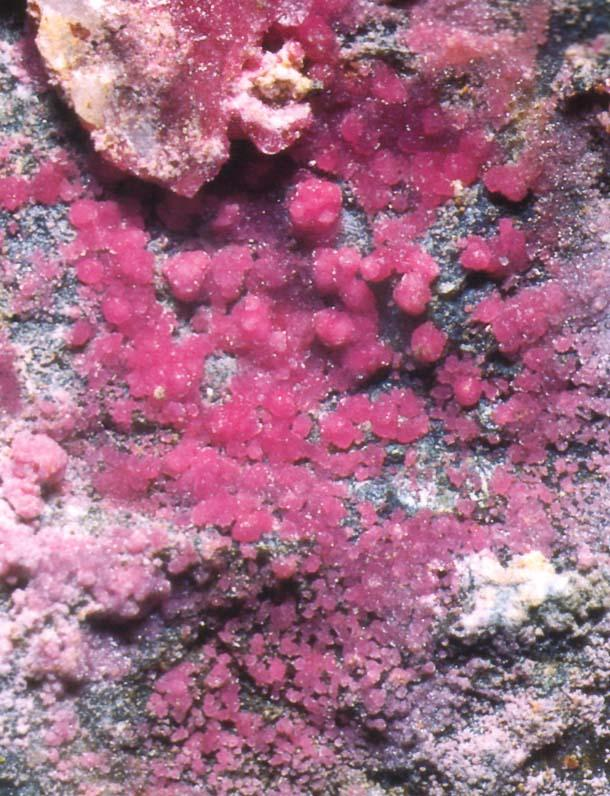erythrite: (28, 0, 553, 774), (461, 38, 610, 464), (396, 10, 530, 106), (306, 99, 417, 172)
